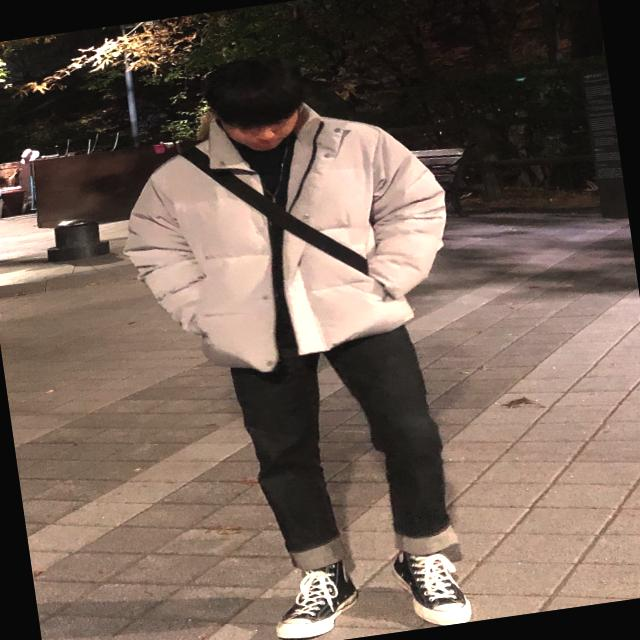denimpants: (224, 306, 468, 580)
padding: (104, 85, 472, 386)
